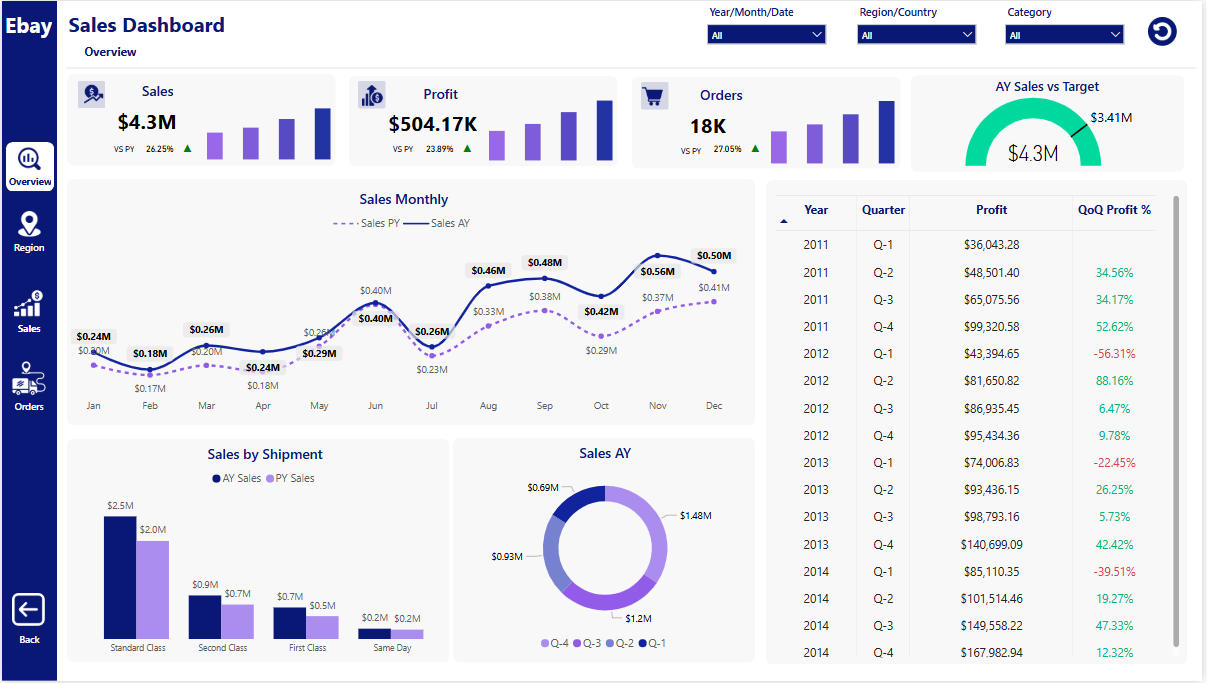

What the dashboard file says about the page in this screenshot:
{"tool":"powerbi","page":{"name":"Overview","canvas":[1500,850],"ordinal":1},"visuals":[{"type":"shape","box":[0,0,68.7,849.6],"z":0},{"type":"slicer","fields":{"Values":["Sales.Order Year","Sales.Month","Sales.Order Date"]},"box":[871.1,0,168.7,54.2],"z":0,"group":"g1"},{"type":"slicer","fields":{"Values":["Sales.Region","Sales.Country"]},"box":[1058.7,0,169.3,54.2],"z":1000,"group":"g1"},{"type":"shape","title":"Total Sales","box":[81.1,91.7,336,114.6],"z":1000},{"type":"slicer","fields":{"Values":["Sales.Category"]},"box":[1243.2,0,169.3,54.2],"z":2000,"group":"g1"},{"type":"shape","box":[954.4,223.1,526.9,605.6],"z":2000},{"type":"image","box":[1422.6,14.4,55.1,45.9],"z":3000,"group":"g1"},{"type":"shape","box":[1136.9,93,341.6,121.5],"z":3000},{"type":"shape","box":[434.2,93.4,336,112.8],"z":4000},{"type":"card","fields":{"Values":["profit margin.Profit Thi year"]},"box":[444.9,108.9,186.4,90.6],"z":5000},{"type":"shape","box":[564.3,545.9,378,280.8],"z":6000},{"type":"shape","box":[787.3,95.2,336,114.6],"z":7000},{"type":"shape","box":[80.6,547.5,478.1,279.4],"z":8000},{"type":"shape","box":[81.2,222.7,860.6,308.4],"z":9000},{"type":"card","fields":{"Values":["Table.Sales Thi year"]},"box":[87.9,106.3,187.7,90.6],"z":10000},{"type":"image","box":[97,99,34,34],"z":11000},{"type":"shape","title":"Total Sales","box":[140.4,93.2,108.9,34.1],"z":12000},{"type":"card","fields":{"Values":["Table.AY VS PY Sales"]},"box":[168.1,172,59.1,28.2],"z":13000},{"type":"card","fields":{"Values":["Table.Sales Icon"]},"box":[213,172,38.5,27],"z":14000},{"type":"shape","title":"Sales AY","box":[130.9,174.5,42.4,21.8],"z":15000},{"type":"lineChart","title":"Sales Monthly","fields":{"Y":["profit margin.Sales pre year","profit margin.Sales Thi year"],"Category":["Tableau Datasets (1).Month"]},"box":[80.6,234.4,841.9,288.8],"z":16000},{"type":"clusteredColumnChart","title":"Sales by Shipment","fields":{"Category":["Tableau Datasets (1).Ship Mode"],"Y":["profit margin.Sales Thi year","profit margin.Sales pre year"]},"box":[80.4,553.1,497.7,273.1],"z":17000},{"type":"donutChart","title":"Sales AY","fields":{"Y":["profit margin.Sales Thi year"],"Category":["Tableau Datasets (1).Quarterly orders"]},"box":[578.7,552.5,350.4,269],"z":18000},{"type":"shape","box":[69.3,1.4,224.6,52.7],"z":19000},{"type":"shape","box":[56.8,45.7,158,33.3],"z":20000},{"type":"shape","title":"Total Sales","box":[493.4,97.1,108.9,34.1],"z":21000},{"type":"card","fields":{"Values":["profit margin.AY VS PY Profit"]},"box":[517.6,173,58.7,28.6],"z":22000},{"type":"card","fields":{"Values":["profit margin.Profit Icon"]},"box":[562.7,173,37.6,27.1],"z":23000},{"type":"shape","title":"Sales AY","box":[479.9,174.5,42.1,21.1],"z":24000},{"type":"columnChart","fields":{"Category":["Tableau Datasets (1).Order YY"],"Y":["Sum(Tableau Datasets (1).Sales)"]},"box":[250.8,94.5,167.2,109],"z":25000},{"type":"card","fields":{"Values":["profit margin.Orders Thi year"]},"box":[787.4,110.2,189,91.9],"z":26000},{"type":"shape","title":"Total Sales","box":[845.5,99.3,108.3,34.6],"z":27000},{"type":"card","fields":{"Values":["profit margin.AY VS PY Orders"]},"box":[877.1,173,58.7,28.6],"z":28000},{"type":"card","fields":{"Values":["profit margin.Profit Icon"]},"box":[922.3,173,37.6,27.1],"z":29000},{"type":"shape","title":"Sales AY","box":[839.5,176,42.1,22.6],"z":30000},{"type":"gauge","title":"AY Sales vs Target","fields":{"TargetValue":["profit margin.Target sales"],"Y":["profit margin.Sales Thi year"],"MaxValue":["profit margin.Sales Thi year"]},"box":[1149.4,94.8,312.9,115.8],"z":31000},{"type":"columnChart","fields":{"Category":["Tableau Datasets (1).Order YY"],"Y":["Sum(Tableau Datasets (1).Profit)"]},"box":[603.4,96.3,167.2,109],"z":32000},{"type":"columnChart","fields":{"Category":["Tableau Datasets (1).Order YY"],"Y":["CountNonNull(Tableau Datasets (1).Order ID)"]},"box":[956,100,167.2,109],"z":33000},{"type":"shape","box":[79.7,76.7,1412.7,15],"z":34000},{"type":"image","box":[795.6,101.1,36.1,36.1],"z":35000},{"type":"shape","box":[95,100,34,34],"z":36000},{"type":"shape","box":[445.2,99.7,34.6,34.6],"z":37000},{"type":"shape","box":[798.6,101.1,34.6,34.6],"z":38000},{"type":"image","box":[445.2,99.7,36.1,36.1],"z":39000},{"type":"shape","box":[4.5,176,60.2,61.7],"z":40000},{"type":"shape","box":[1.5,212.1,67.7,24.1],"z":41000},{"type":"image","box":[6,176,55.7,42.1],"z":42000},{"type":"shape","box":[0,293.4,67.7,28.6],"z":43000},{"type":"shape","box":[0,391.2,67.7,33.1],"z":44000},{"type":"shape","box":[0,492,67.7,28.6],"z":45000},{"type":"image","box":[6,257.8,55,42],"z":46000},{"type":"image","box":[0,353.6,66.2,48.1],"z":47000},{"type":"image","box":[1.5,445.3,64.7,52.7],"z":48000},{"type":"tableEx","fields":{"Values":["Sales.Order Year","Sales.Quarterly orders","Sum(Sales.Profit)","Sales.QoQ"]},"box":[961.8,236.9,516.1,588.4],"z":49000},{"type":"shape","box":[3,0,61.7,57.2],"z":50000},{"type":"group","id":"g1","title":"Group 1","box":[871.1,0,606.6,60.4],"z":51000},{"type":"actionButton","box":[0,173.2,68.2,64.3],"z":52000},{"type":"actionButton","box":[1.5,257.3,67.7,64.7],"z":53000},{"type":"actionButton","box":[0,353.6,67.7,64.7],"z":54000},{"type":"actionButton","box":[0,451.4,68.2,65.6],"z":55000},{"type":"image","box":[7.9,734.9,51.2,51.2],"z":56000},{"type":"shape","box":[1.5,783.9,66.2,28.6],"z":57000},{"type":"actionButton","box":[3,728.2,63.2,84.3],"z":58000}]}

Visuals, with their boxes on the page's 1500x850 design canvas (x1, y1, x2, y2). These are canvas units, not pixel positions in the 1207x683 screenshot, which may show the page scaled, cropped or inside an application window:
shape: bbox=(0, 0, 69, 850)
slicer - Sales.Order Year x Sales.Month: bbox=(871, 0, 1040, 54)
slicer - Sales.Region x Sales.Country: bbox=(1059, 0, 1228, 54)
"Total Sales" shape: bbox=(81, 92, 417, 206)
slicer - Sales.Category: bbox=(1243, 0, 1412, 54)
shape: bbox=(954, 223, 1481, 829)
image: bbox=(1423, 14, 1478, 60)
shape: bbox=(1137, 93, 1478, 214)
shape: bbox=(434, 93, 770, 206)
card - profit margin.Profit Thi year: bbox=(445, 109, 631, 200)
shape: bbox=(564, 546, 942, 827)
shape: bbox=(787, 95, 1123, 210)
shape: bbox=(81, 548, 559, 827)
shape: bbox=(81, 223, 942, 531)
card - Table.Sales Thi year: bbox=(88, 106, 276, 197)
image: bbox=(97, 99, 131, 133)
"Total Sales" shape: bbox=(140, 93, 249, 127)
card - Table.AY VS PY Sales: bbox=(168, 172, 227, 200)
card - Table.Sales Icon: bbox=(213, 172, 252, 199)
"Sales AY" shape: bbox=(131, 174, 173, 196)
"Sales Monthly" lineChart: bbox=(81, 234, 922, 523)
"Sales by Shipment" clusteredColumnChart: bbox=(80, 553, 578, 826)
"Sales AY" donutChart: bbox=(579, 552, 929, 822)
shape: bbox=(69, 1, 294, 54)
shape: bbox=(57, 46, 215, 79)
"Total Sales" shape: bbox=(493, 97, 602, 131)
card - profit margin.AY VS PY Profit: bbox=(518, 173, 576, 202)
card - profit margin.Profit Icon: bbox=(563, 173, 600, 200)
"Sales AY" shape: bbox=(480, 174, 522, 196)
columnChart - Tableau Datasets (1).Order YY x Sum(Tableau Datasets (1).Sales): bbox=(251, 94, 418, 204)
card - profit margin.Orders Thi year: bbox=(787, 110, 976, 202)
"Total Sales" shape: bbox=(846, 99, 954, 134)
card - profit margin.AY VS PY Orders: bbox=(877, 173, 936, 202)
card - profit margin.Profit Icon: bbox=(922, 173, 960, 200)
"Sales AY" shape: bbox=(840, 176, 882, 199)
"AY Sales vs Target" gauge: bbox=(1149, 95, 1462, 211)
columnChart - Tableau Datasets (1).Order YY x Sum(Tableau Datasets (1).Profit): bbox=(603, 96, 771, 205)
columnChart - Tableau Datasets (1).Order YY x CountNonNull(Tableau Datasets (1).Order ID): bbox=(956, 100, 1123, 209)
shape: bbox=(80, 77, 1492, 92)
image: bbox=(796, 101, 832, 137)
shape: bbox=(95, 100, 129, 134)
shape: bbox=(445, 100, 480, 134)
shape: bbox=(799, 101, 833, 136)
image: bbox=(445, 100, 481, 136)
shape: bbox=(4, 176, 65, 238)
shape: bbox=(2, 212, 69, 236)
image: bbox=(6, 176, 62, 218)
shape: bbox=(0, 293, 68, 322)
shape: bbox=(0, 391, 68, 424)
shape: bbox=(0, 492, 68, 521)
image: bbox=(6, 258, 61, 300)
image: bbox=(0, 354, 66, 402)
image: bbox=(2, 445, 66, 498)
tableEx - Sales.Order Year x Sales.Quarterly orders: bbox=(962, 237, 1478, 825)
shape: bbox=(3, 0, 65, 57)
"Group 1" group: bbox=(871, 0, 1478, 60)
actionButton: bbox=(0, 173, 68, 238)
actionButton: bbox=(2, 257, 69, 322)
actionButton: bbox=(0, 354, 68, 418)
actionButton: bbox=(0, 451, 68, 517)
image: bbox=(8, 735, 59, 786)
shape: bbox=(2, 784, 68, 812)
actionButton: bbox=(3, 728, 66, 812)
